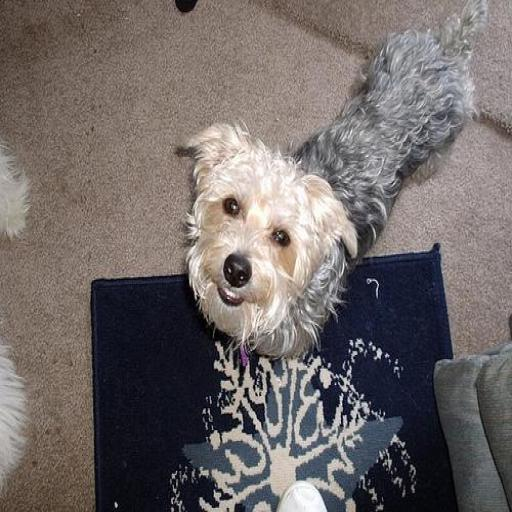dog_face: (173, 128, 358, 340)
